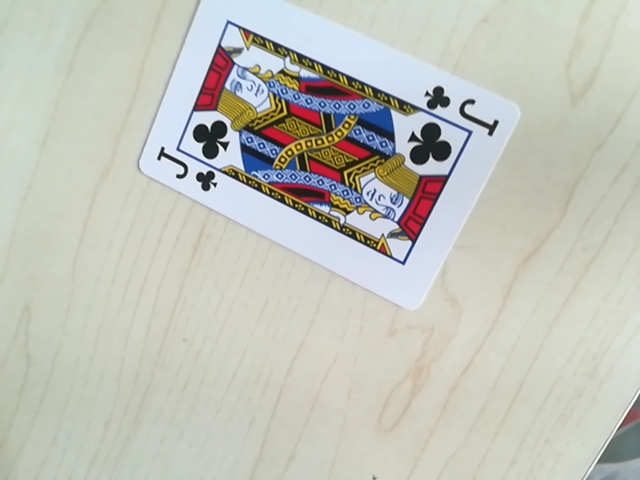mh j: (419, 83, 500, 127), (158, 157, 222, 195)
